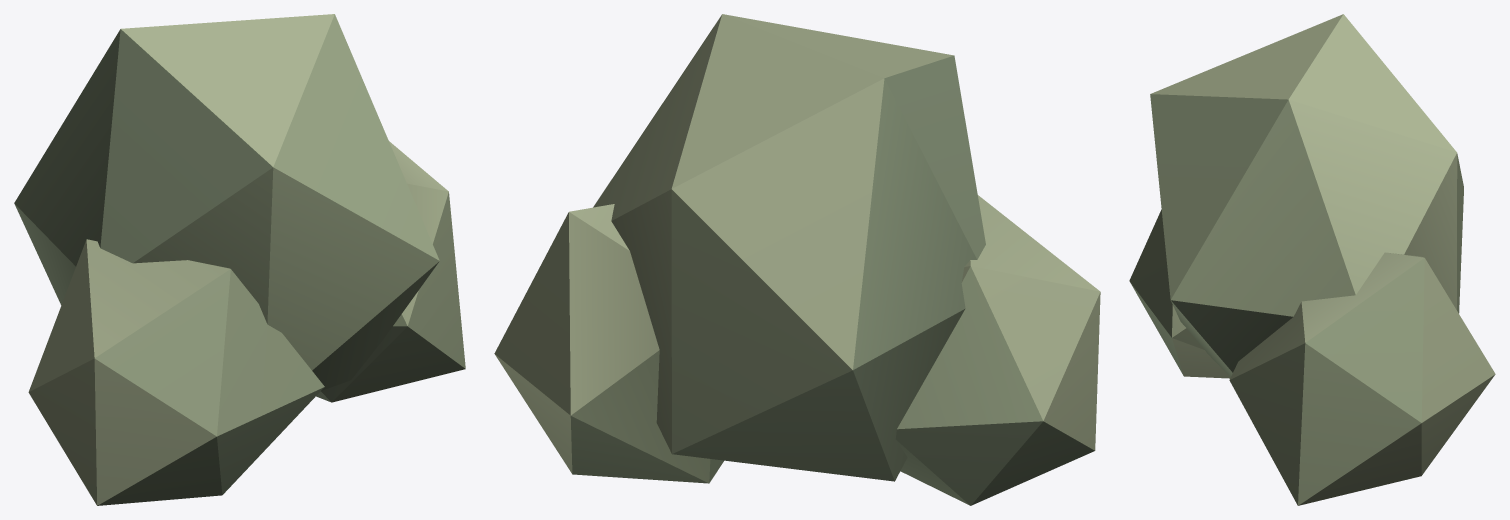
The model's file is shrub.lod2.glb.
3 renders of one model, left to right at view 1: azimuth 30°, elevation 25°; view 2: azimuth 150°, elevation 25°; view 3: azimuth 270°, elevation 25°, orthographic. The views are drawn at different scales.
Bounding box in the file's own units: 1.08 × 0.9427 × 0.8755.
